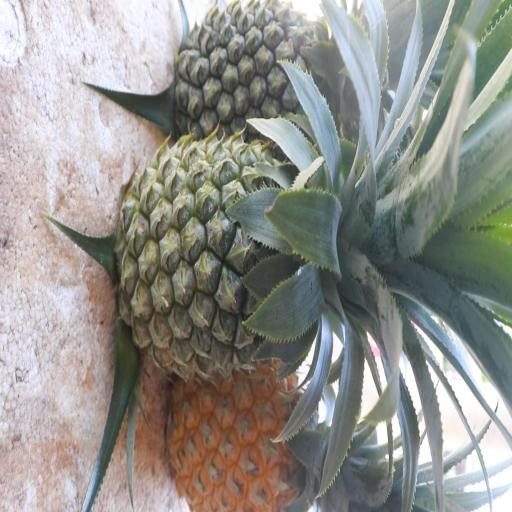------------------------------: (118, 138, 344, 366)
Pineapple - v8 v1: (166, 369, 343, 512)
